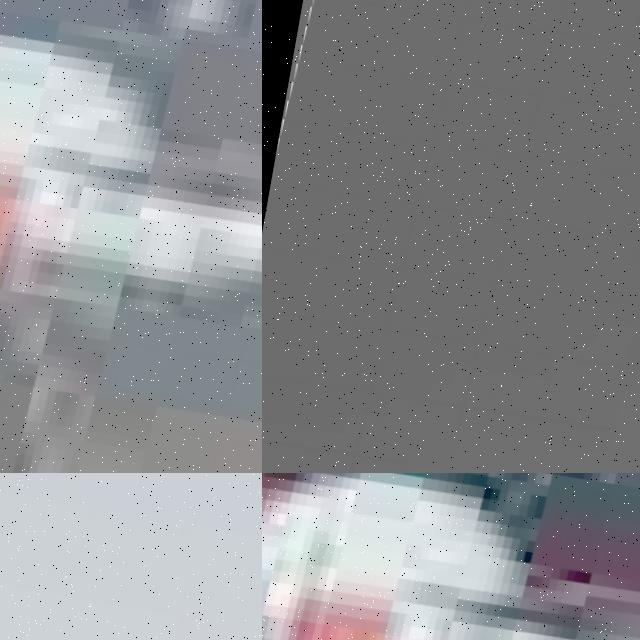drone: (262, 0, 640, 473), (0, 0, 262, 473), (262, 473, 640, 640)
